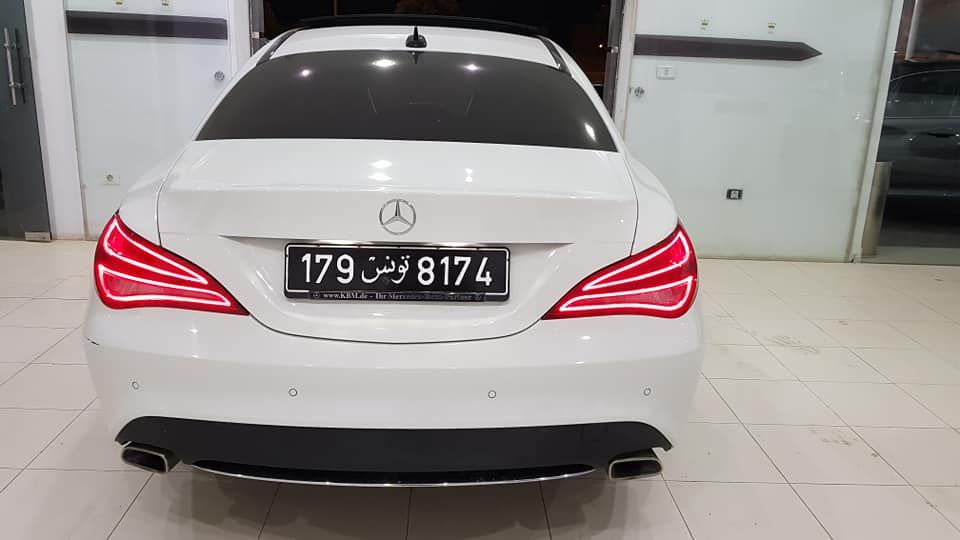LP: (283, 244, 507, 299)
